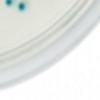Blue_green: (15, 0, 26, 16), (2, 0, 13, 12)
